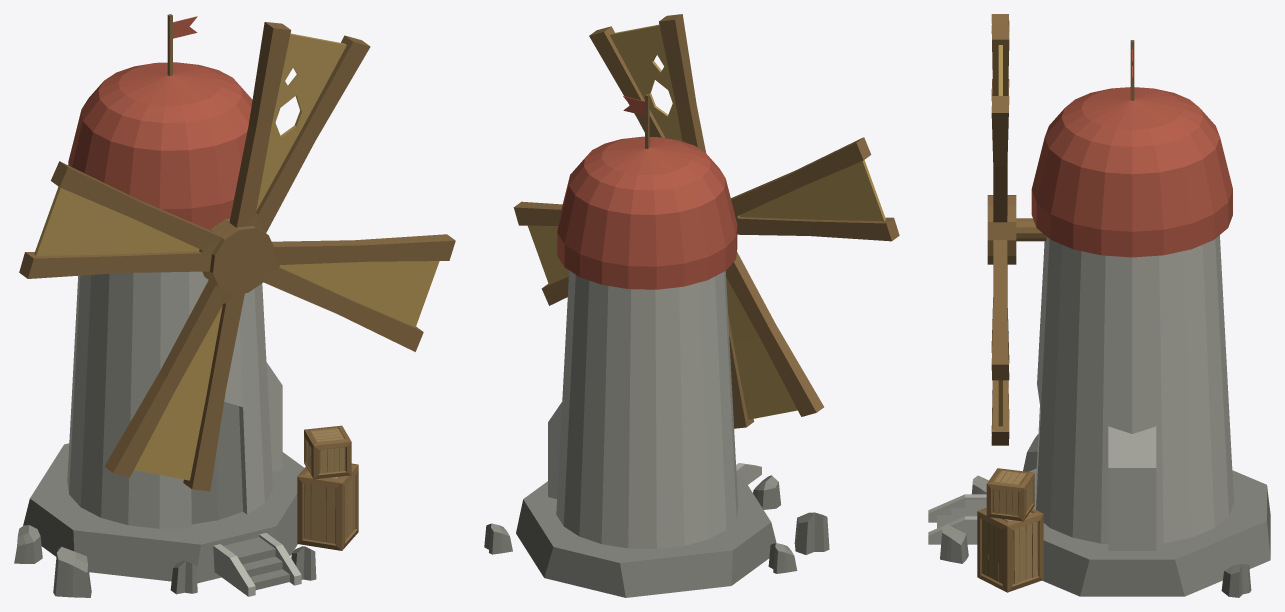
File: Windmill.glb
3 renders of one model, left to right at view 1: azimuth 30°, elevation 25°; view 2: azimuth 150°, elevation 25°; view 3: azimuth 270°, elevation 25°, orthographic. The views are drawn at different scales.
Visible parts, largest first — view 1: Windmill_SecondAge; view 2: Windmill_SecondAge; view 3: Windmill_SecondAge.
Part boxes in pixels (x1=…): Windmill_SecondAge: x1=14, y1=14, x2=455, y2=597; Windmill_SecondAge: x1=484, y1=14, x2=899, y2=597; Windmill_SecondAge: x1=928, y1=14, x2=1270, y2=597.
Size of the model in its own units: 1.34 by 1.61 by 0.9424.
